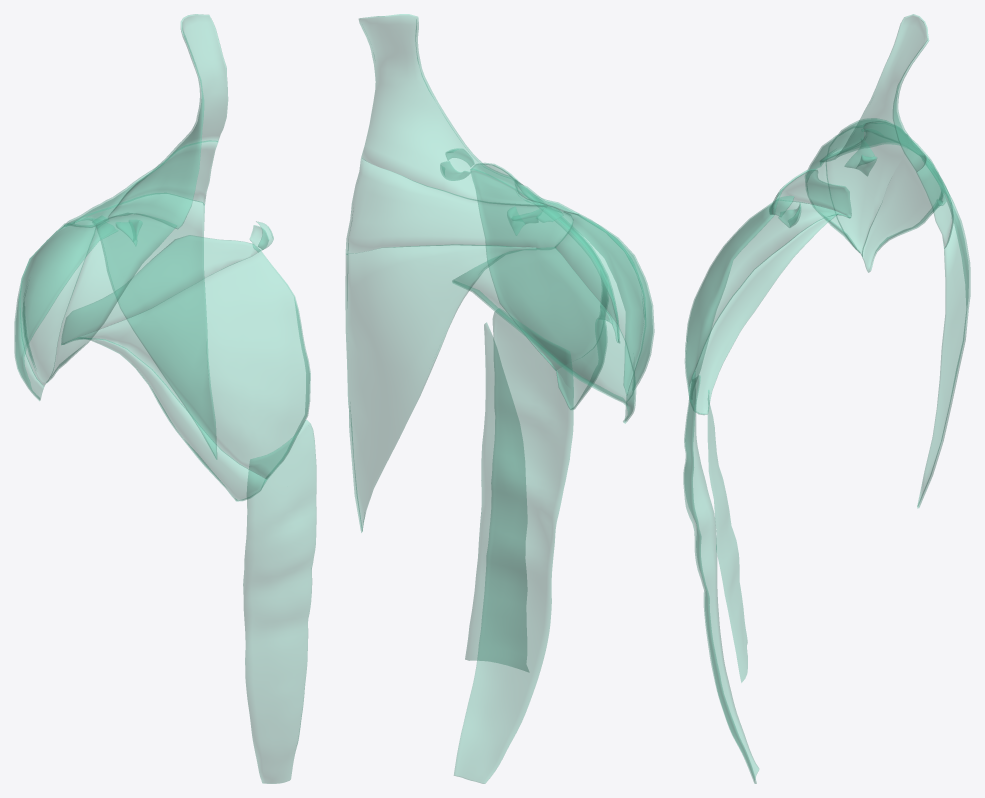
File: open3d-muscles-thorax-abdomen-attachments-01.glb
3 views of the same model, side by side, from view 1: azimuth 30°, elevation 25°; view 2: azimuth 150°, elevation 25°; view 3: azimuth 270°, elevation 25° (orthographic). The views are drawn at different scales.
Visible parts, largest first — view 1: O3D_87aed6572624dc, O3D_fa9e6e33694874, O3D_8cb1b5485254fe, O3D_c942b6639215ac, O3D_db6ab216e118ed, O3D_59d0a20ecf65cc, O3D_bddafe9f9b85c9, O3D_a14d996cf29abe, O3D_43d5d85f77220b, O3D_4791c4c90f9acd; view 2: O3D_fa9e6e33694874, O3D_8cb1b5485254fe, O3D_c942b6639215ac, O3D_5291f8e193f8e6, O3D_a14d996cf29abe, O3D_87aed6572624dc, O3D_4791c4c90f9acd, O3D_bddafe9f9b85c9, O3D_db6ab216e118ed, O3D_43d5d85f77220b, O3D_59d0a20ecf65cc; view 3: O3D_87aed6572624dc, O3D_fa9e6e33694874, O3D_bddafe9f9b85c9, O3D_8cb1b5485254fe, O3D_c942b6639215ac, O3D_43d5d85f77220b, O3D_a14d996cf29abe, O3D_5291f8e193f8e6, O3D_db6ab216e118ed, O3D_4791c4c90f9acd, O3D_59d0a20ecf65cc.
Part boxes in pixels (left/top/right/bottom): O3D_87aed6572624dc: left=65, top=250, right=310, bottom=479; O3D_fa9e6e33694874: left=243, top=420, right=316, bottom=783; O3D_8cb1b5485254fe: left=75, top=194, right=216, bottom=459; O3D_c942b6639215ac: left=108, top=14, right=227, bottom=228; O3D_db6ab216e118ed: left=46, top=213, right=176, bottom=383; O3D_59d0a20ecf65cc: left=61, top=235, right=259, bottom=344; O3D_bddafe9f9b85c9: left=19, top=223, right=96, bottom=386; O3D_a14d996cf29abe: left=14, top=218, right=117, bottom=400; O3D_43d5d85f77220b: left=88, top=338, right=266, bottom=501; O3D_4791c4c90f9acd: left=65, top=140, right=217, bottom=227; O3D_fa9e6e33694874: left=454, top=308, right=573, bottom=783; O3D_8cb1b5485254fe: left=345, top=244, right=535, bottom=532; O3D_c942b6639215ac: left=359, top=14, right=546, bottom=207; O3D_5291f8e193f8e6: left=465, top=322, right=529, bottom=672; O3D_a14d996cf29abe: left=452, top=247, right=635, bottom=423; O3D_87aed6572624dc: left=470, top=169, right=617, bottom=370; O3D_4791c4c90f9acd: left=346, top=158, right=573, bottom=254; O3D_bddafe9f9b85c9: left=554, top=211, right=654, bottom=401; O3D_db6ab216e118ed: left=514, top=180, right=645, bottom=394; O3D_43d5d85f77220b: left=556, top=306, right=612, bottom=409; O3D_59d0a20ecf65cc: left=471, top=163, right=619, bottom=342; O3D_87aed6572624dc: left=685, top=200, right=850, bottom=401; O3D_fa9e6e33694874: left=683, top=371, right=758, bottom=783; O3D_bddafe9f9b85c9: left=826, top=118, right=907, bottom=256; O3D_8cb1b5485254fe: left=917, top=152, right=970, bottom=508; O3D_c942b6639215ac: left=819, top=14, right=928, bottom=171; O3D_43d5d85f77220b: left=688, top=214, right=837, bottom=414; O3D_a14d996cf29abe: left=862, top=135, right=946, bottom=272; O3D_5291f8e193f8e6: left=708, top=390, right=747, bottom=682; O3D_db6ab216e118ed: left=805, top=125, right=863, bottom=252; O3D_4791c4c90f9acd: left=863, top=121, right=953, bottom=248; O3D_59d0a20ecf65cc: left=772, top=169, right=851, bottom=217.
Size of the model in its own units: 0.2347 by 0.7284 by 0.252.
